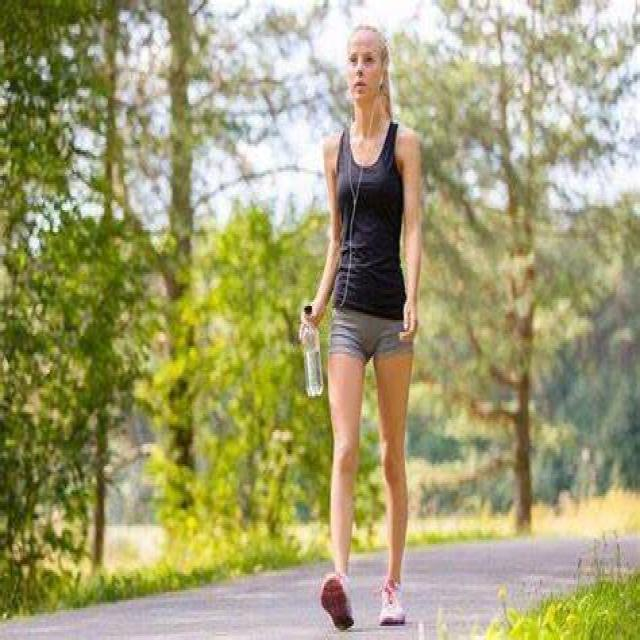stand: (320, 18, 415, 640)
